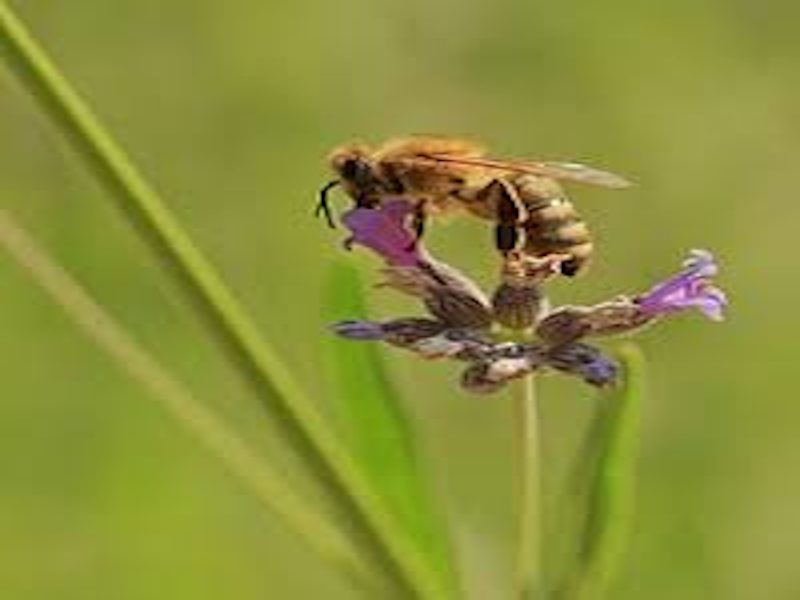abeja: (308, 104, 644, 295)
